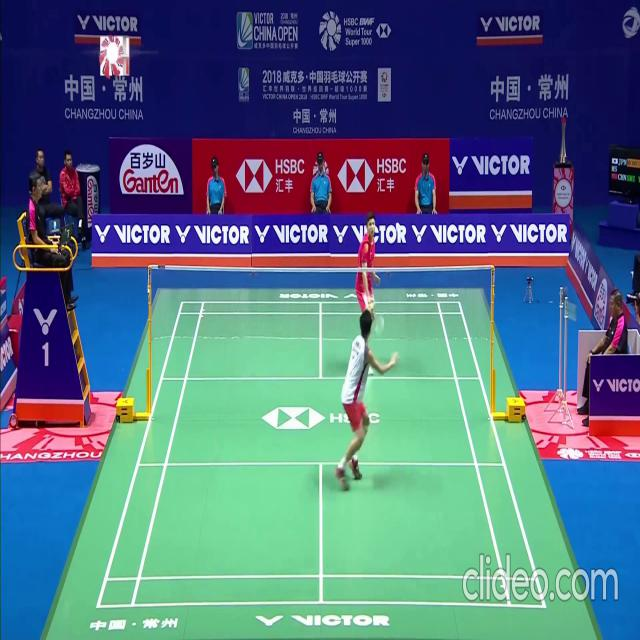Shuttlecock: (396, 224, 400, 231)
